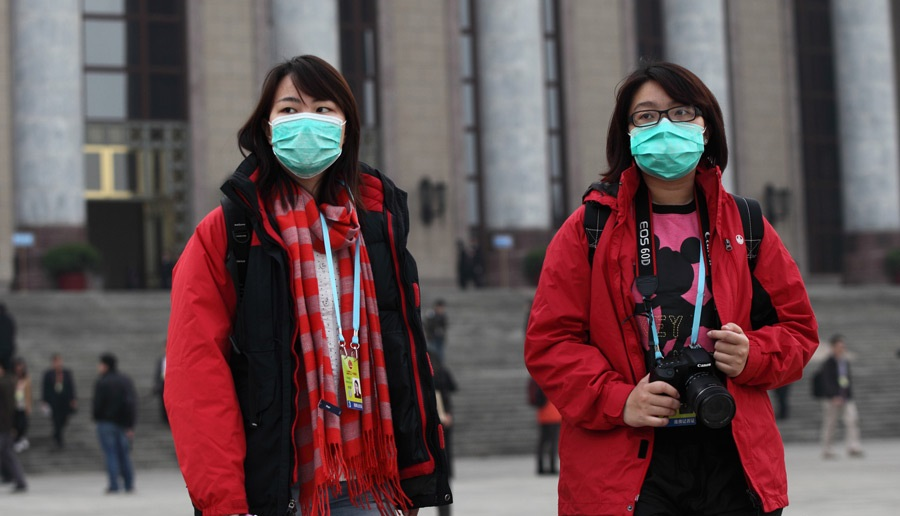face_mask: (268, 76, 346, 176), (628, 81, 705, 177)
